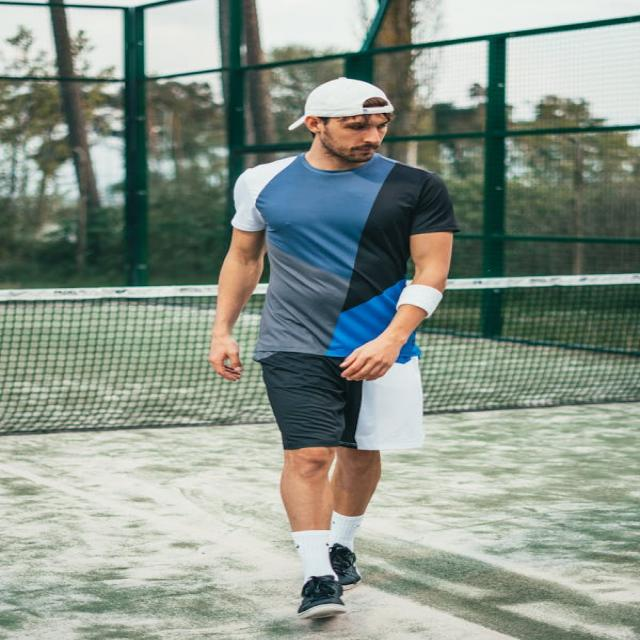Real human 2: (188, 63, 511, 640)
